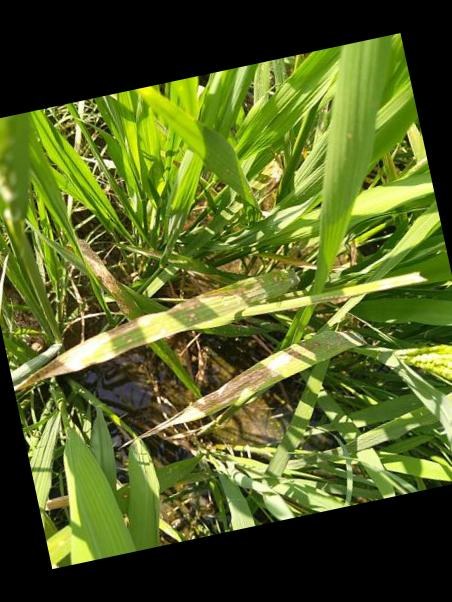Leaf Streak: (13, 279, 264, 390), (134, 329, 363, 439), (76, 241, 126, 315)
